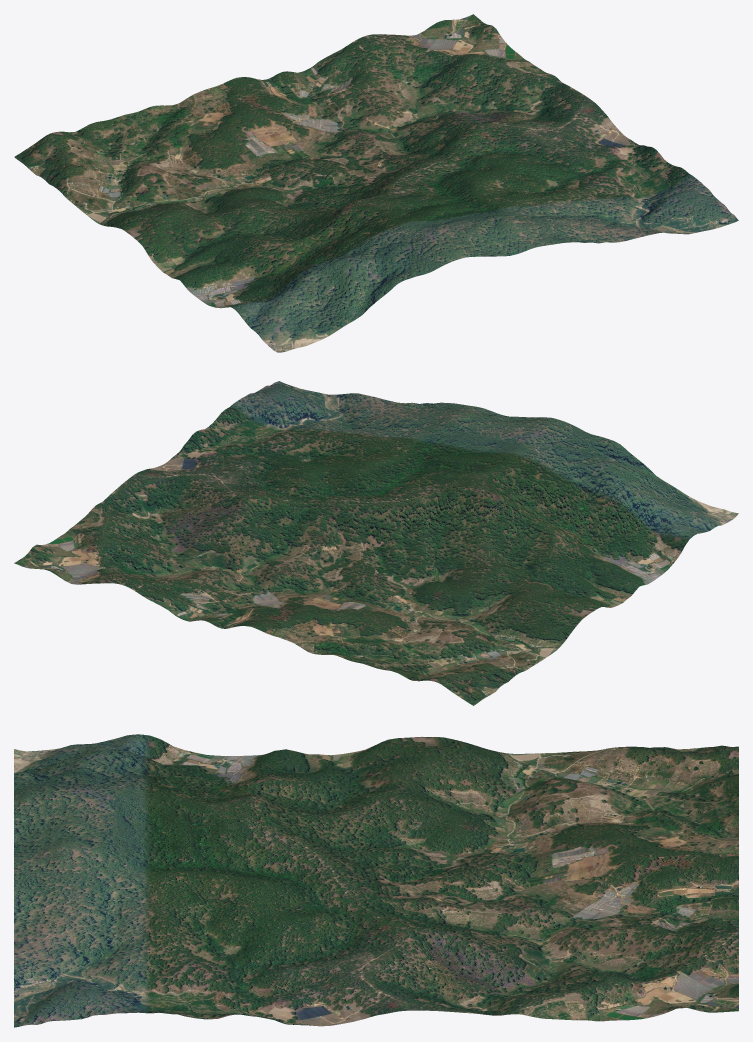
Rendered from terrain_real_T_E02_S02.glb.
3 views of the same model, one above another, from view 1: azimuth 30°, elevation 25°; view 2: azimuth 150°, elevation 25°; view 3: azimuth 270°, elevation 25° (orthographic). The views are drawn at different scales.
Parts seen in each view (by area): view 1: TerrainReal_T_E02_S02; view 2: TerrainReal_T_E02_S02; view 3: TerrainReal_T_E02_S02.
Boxes of the visible parts, box(x1,y1,x2,y2) form: TerrainReal_T_E02_S02: box(14, 14, 738, 352); TerrainReal_T_E02_S02: box(14, 381, 738, 705); TerrainReal_T_E02_S02: box(14, 734, 738, 1027).
Bounding box in the file's own units: 2000 × 253 × 2000.
Materials: 1 (1 with a texture image).
